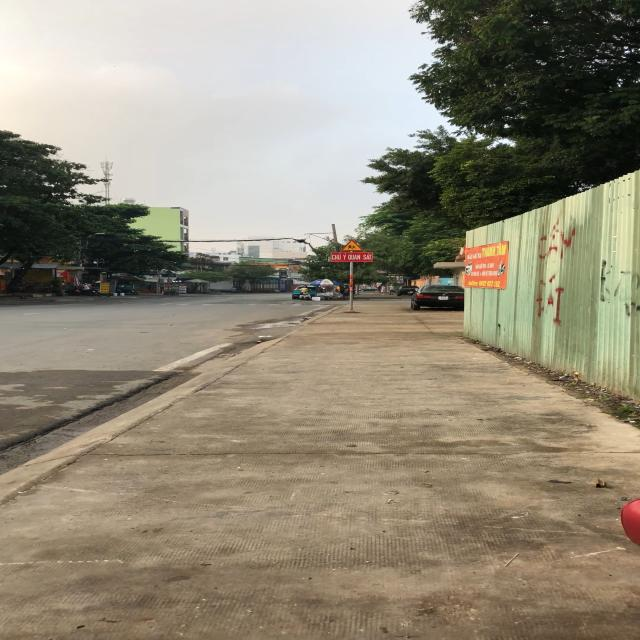Bien bao tre em: (339, 239, 365, 252)
